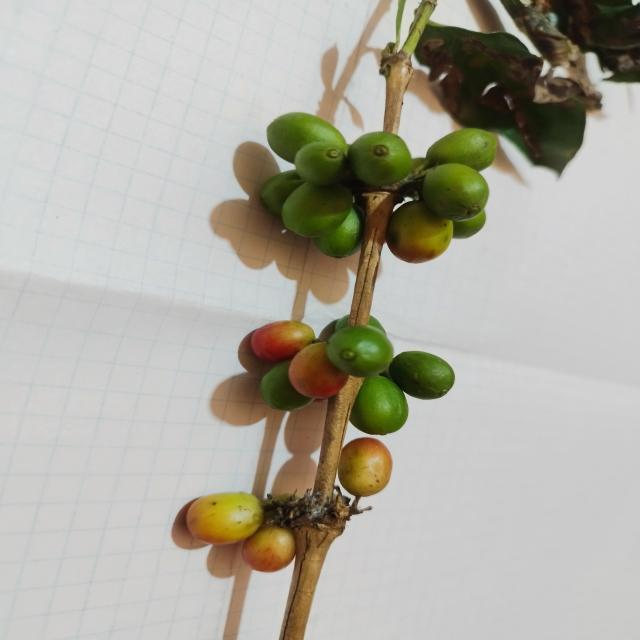Infectado: (181, 492, 265, 547)
Sano: (383, 199, 452, 267), (265, 112, 349, 165), (337, 428, 396, 501), (422, 163, 492, 223), (284, 183, 359, 239), (348, 131, 414, 193), (348, 374, 410, 439), (326, 324, 396, 380), (386, 349, 458, 403), (425, 128, 502, 175), (248, 320, 318, 368), (244, 527, 297, 576)
